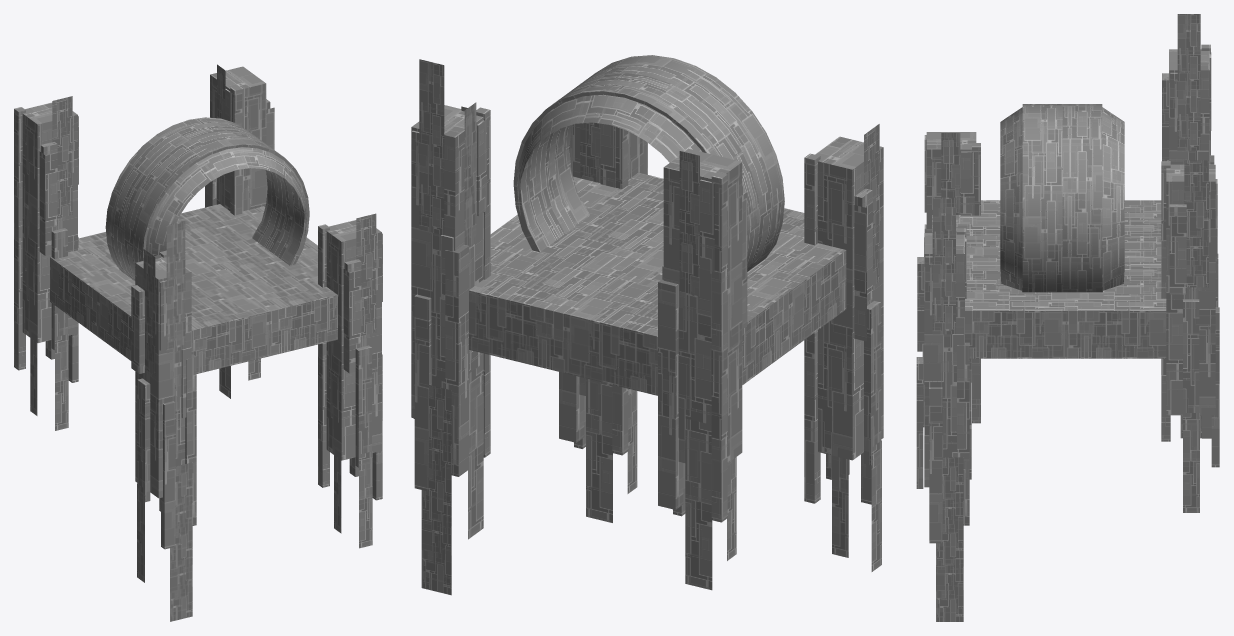
Rendered from SM_architecture_module_09.glb.
3 renders of one model, left to right at view 1: azimuth 30°, elevation 25°; view 2: azimuth 150°, elevation 25°; view 3: azimuth 270°, elevation 25°, orthographic. The views are drawn at different scales.
Visible parts, largest first — view 1: SM_architecture_module_09; view 2: SM_architecture_module_09; view 3: SM_architecture_module_09.
Part boxes in pixels (x1,y1,x2,y2): SM_architecture_module_09: (14,64,382,621); SM_architecture_module_09: (411,55,883,595); SM_architecture_module_09: (916,14,1219,621).
Bounding box in the file's own units: 11.32 × 21.38 × 11.72.
2 materials, 2 textured.
